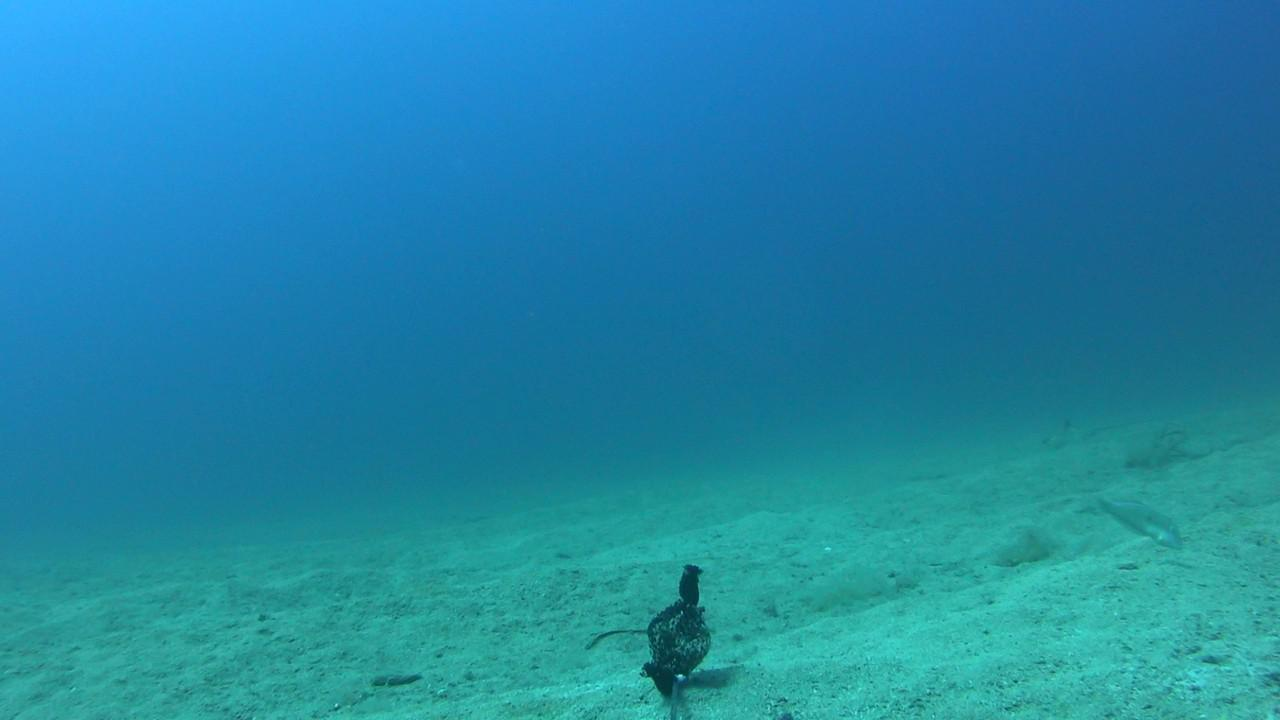myliobatis: (979, 383, 1163, 458)
raor: (1094, 494, 1182, 549)
